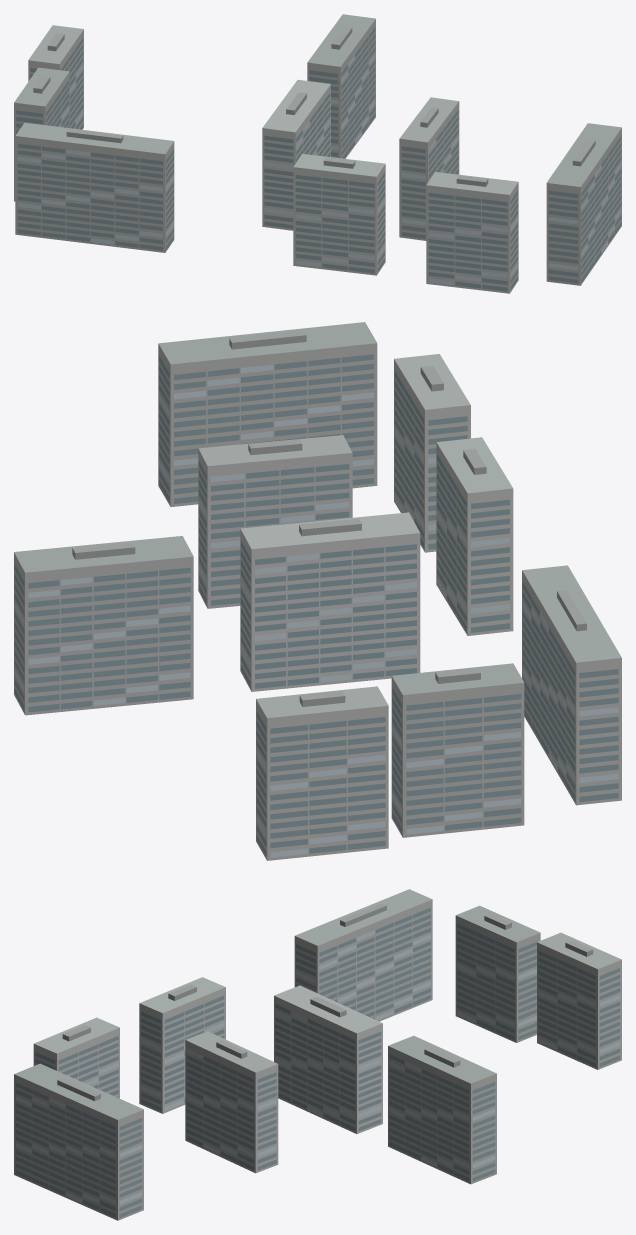
File: apt-a15681108.glb
3 views of the same model, one above another, from view 1: azimuth 30°, elevation 25°; view 2: azimuth 150°, elevation 25°; view 3: azimuth 270°, elevation 25° (orthographic). The views are drawn at different scales.
Parts seen in each view (by area): view 1: apt-a15681108; view 2: apt-a15681108; view 3: apt-a15681108.
Boxes of the visible parts, x1,y1,x2,y2 form: apt-a15681108: [14, 14, 621, 293]; apt-a15681108: [14, 322, 621, 860]; apt-a15681108: [14, 889, 621, 1220].
Bounding box in the file's own units: 192 × 41 × 214.
